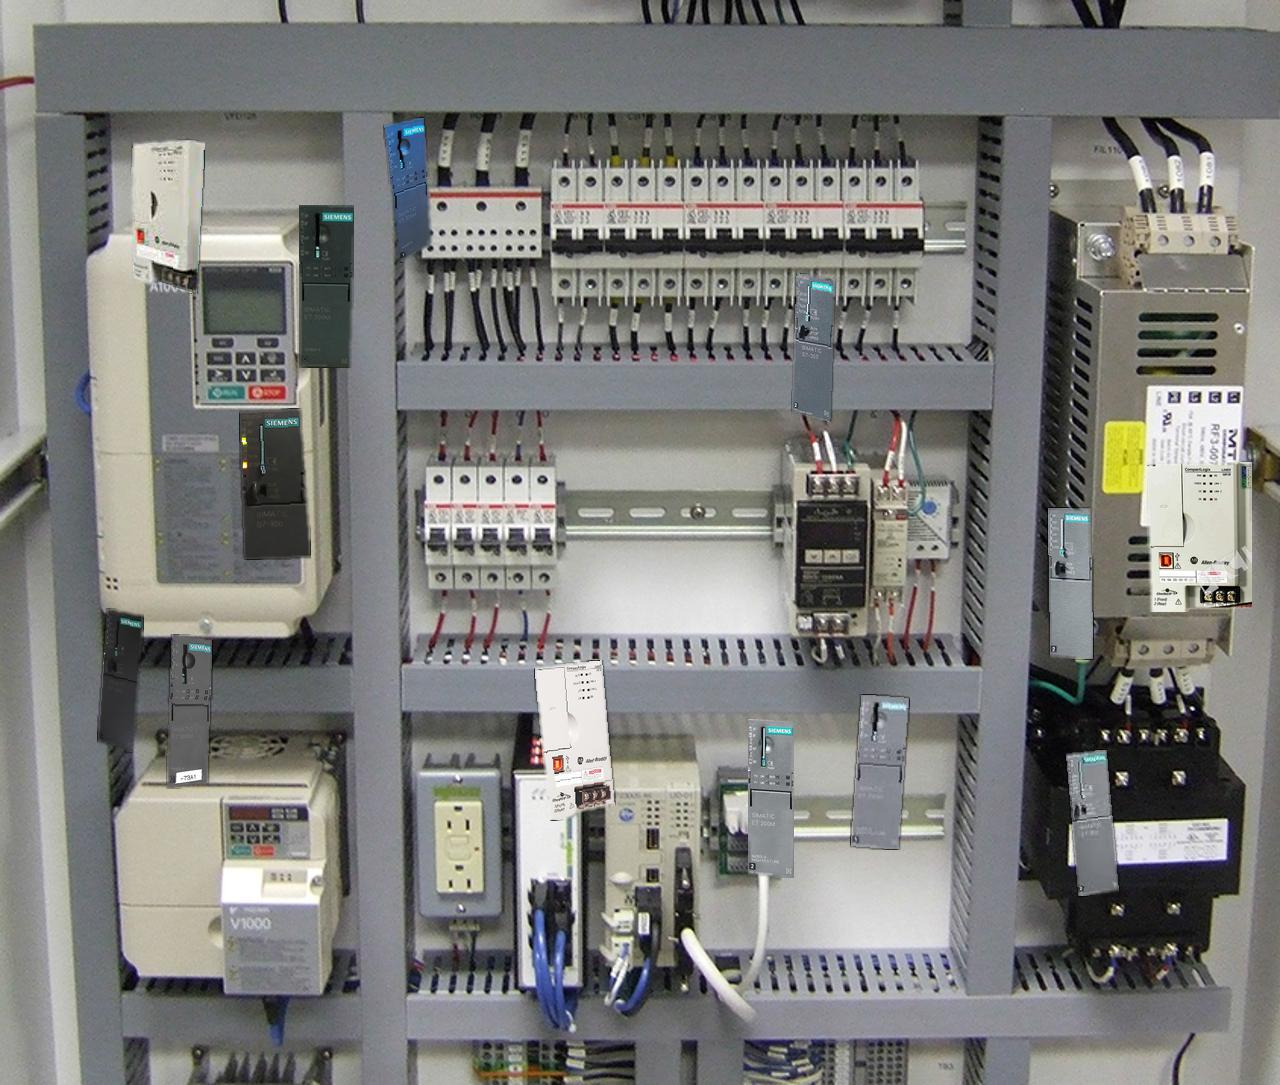AllenBradley: (1147, 462, 1251, 611), (535, 660, 614, 819), (132, 140, 203, 293)
Siemens: (239, 409, 310, 558), (1066, 750, 1119, 894), (1047, 508, 1092, 658), (98, 609, 143, 751), (793, 273, 833, 421)
